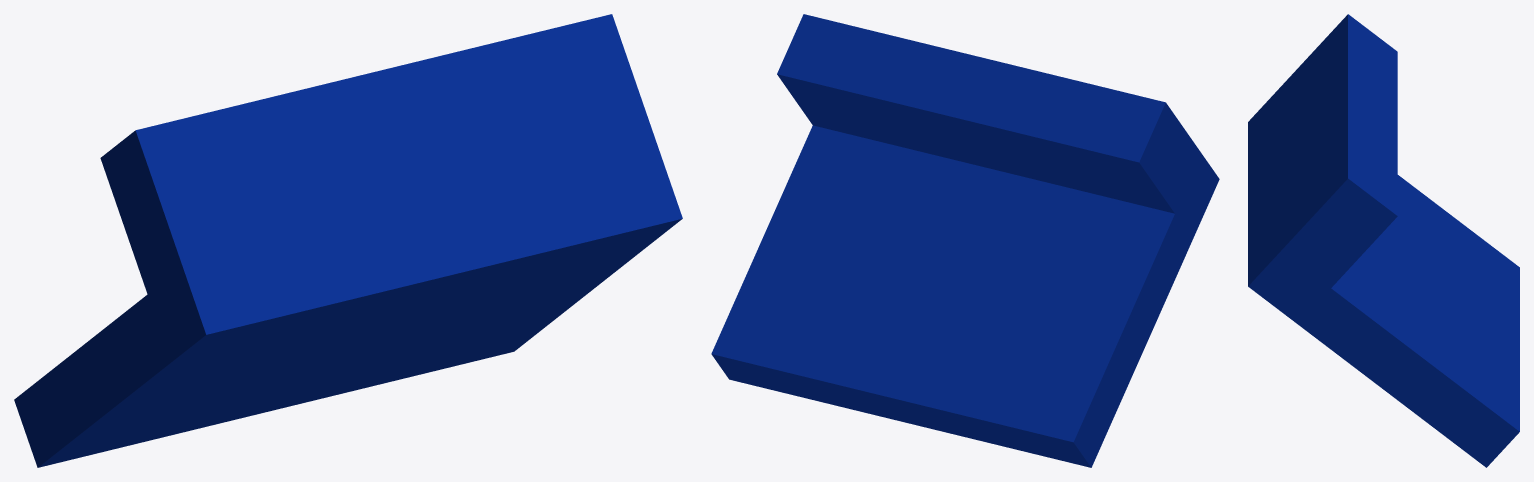
Rendered from zatana_terra_base_vis_120.dae.
3 renders of one model, left to right at view 1: azimuth 30°, elevation 25°; view 2: azimuth 150°, elevation 25°; view 3: azimuth 270°, elevation 25°, orthographic. The views are drawn at different scales.
Visible parts, largest first — view 1: Node_000002318374BEC0; view 2: Node_000002318374BEC0; view 3: Node_000002318374BEC0.
Boxes of the visible parts, box(x1,y1,x2,y2) form: Node_000002318374BEC0: box(14, 14, 682, 467); Node_000002318374BEC0: box(711, 14, 1219, 467); Node_000002318374BEC0: box(1248, 14, 1519, 467).
Bounding box in the file's own units: 0.015 × 0.0123 × 0.0105.
